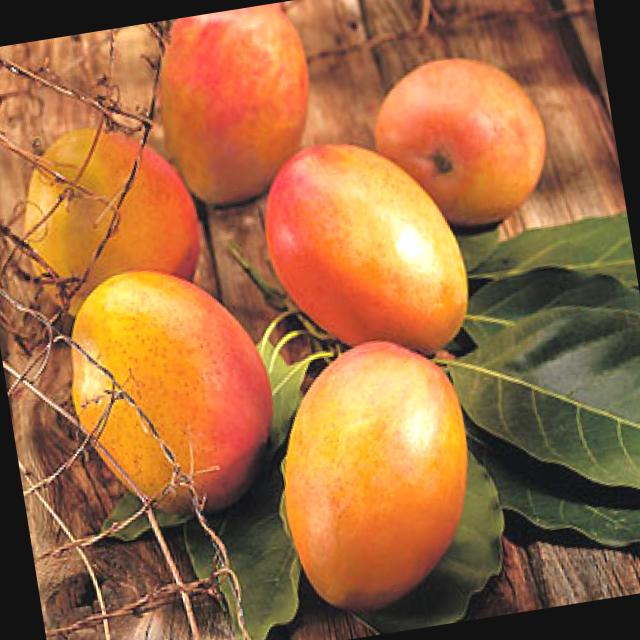onion: (260, 327, 497, 622), (56, 252, 292, 528), (244, 121, 490, 383), (142, 1, 328, 212), (366, 46, 558, 238)
